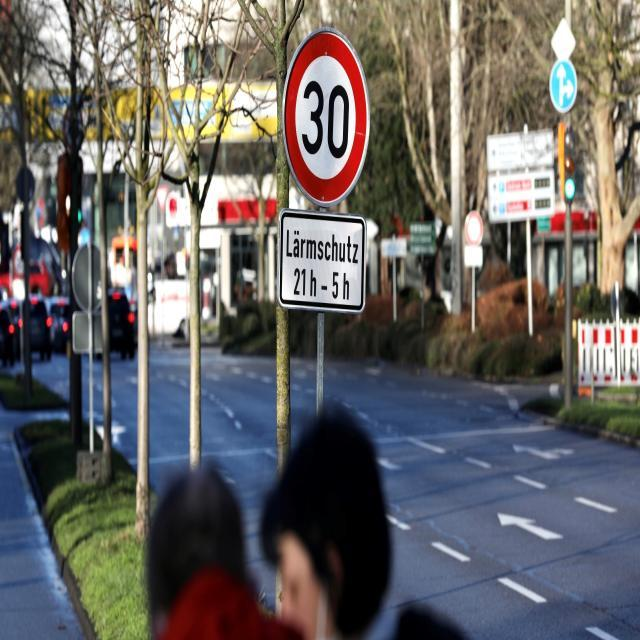Speed Limit -30-: (282, 30, 370, 207)
